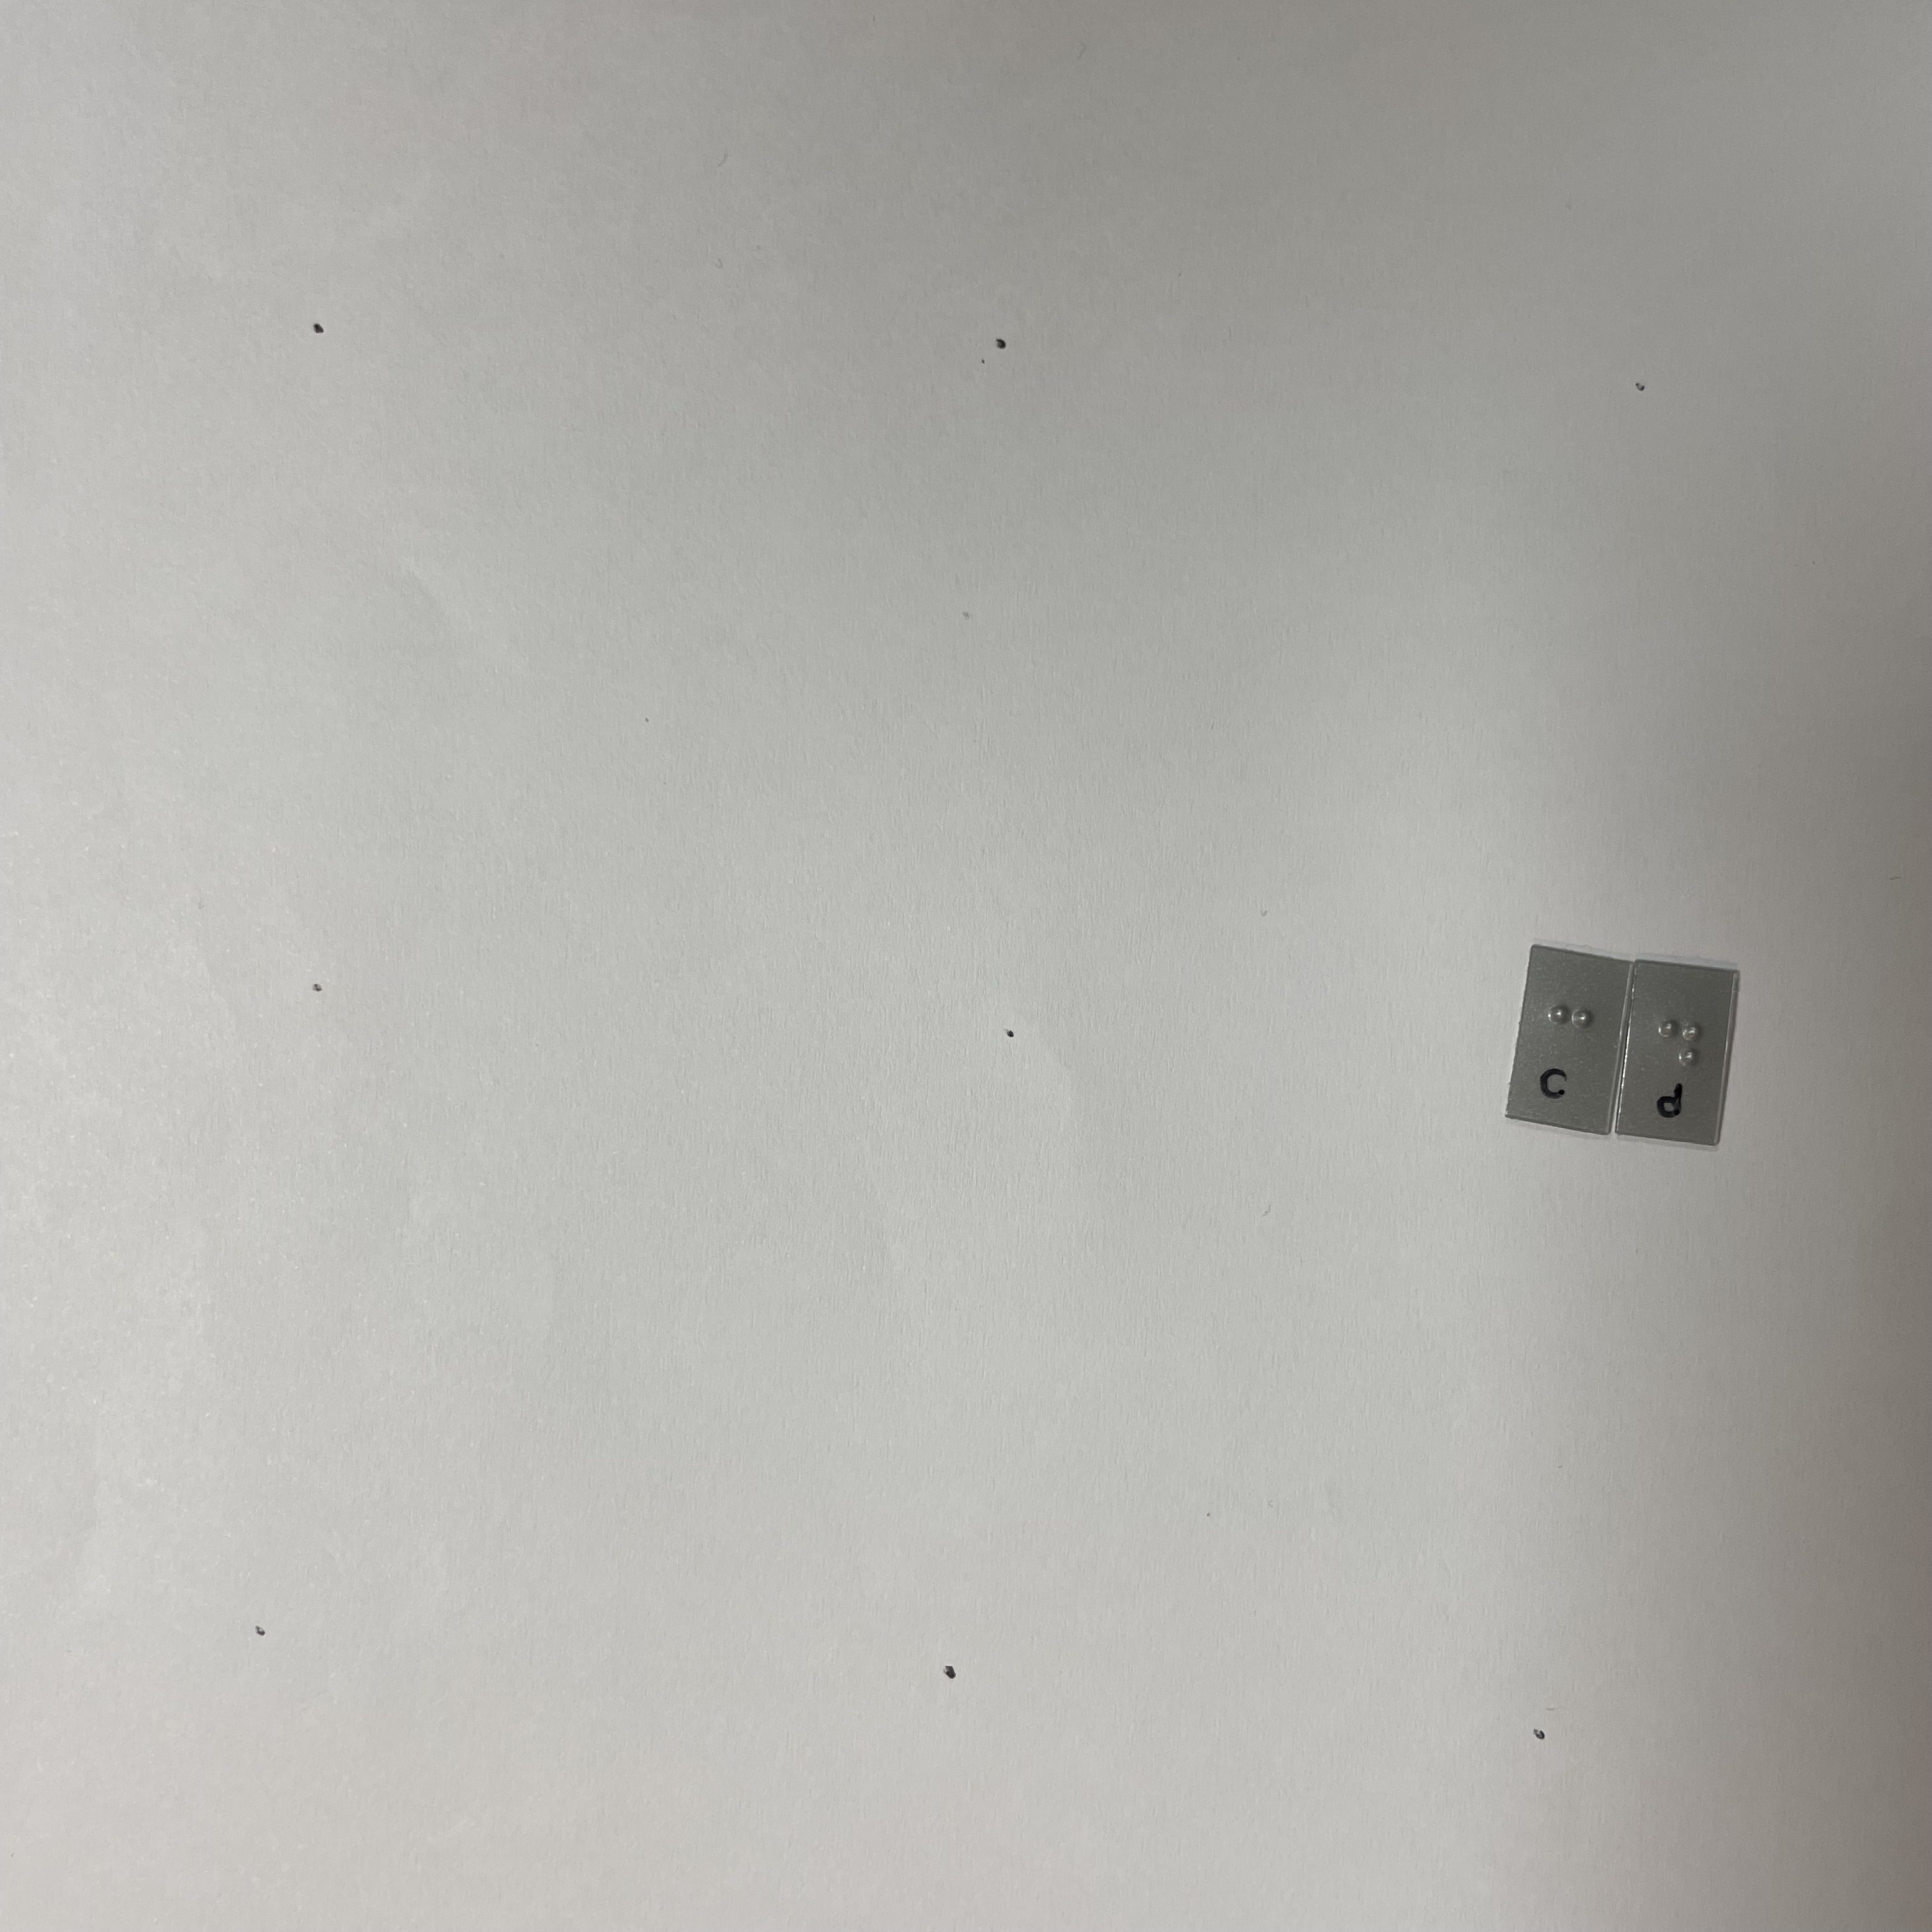c: (1543, 994, 1600, 1072)
d: (1652, 1011, 1708, 1101)
